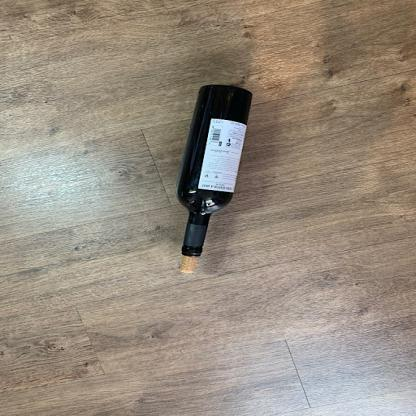trash: (168, 85, 252, 262)
